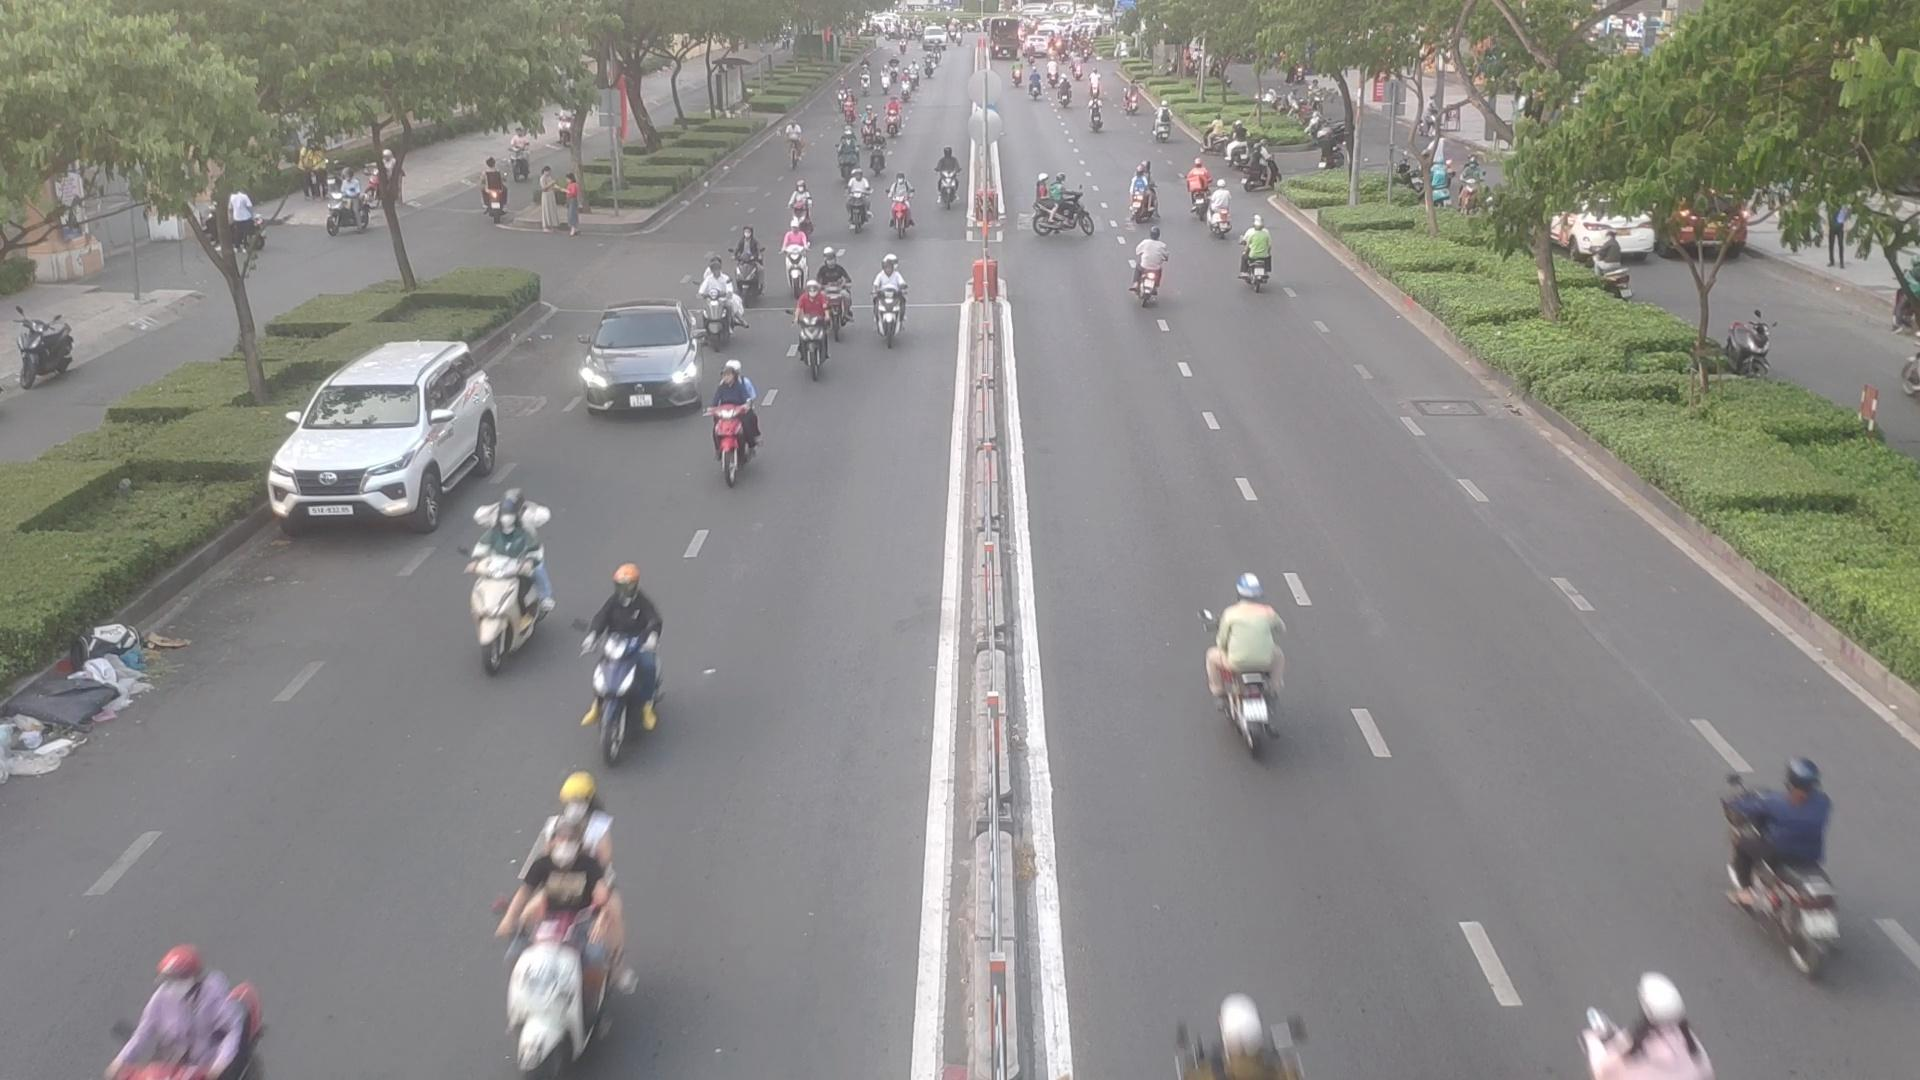car: (272, 343, 516, 531), (572, 305, 707, 415)
motorbike: (498, 819, 636, 1075), (1713, 746, 1844, 975), (100, 938, 266, 1075), (582, 562, 678, 752), (1197, 584, 1298, 752), (456, 496, 550, 671), (1578, 972, 1727, 1080), (698, 361, 762, 476), (1029, 173, 1098, 244), (864, 260, 913, 349), (785, 282, 829, 380), (695, 268, 748, 347), (1236, 219, 1283, 290), (1127, 236, 1174, 309), (727, 233, 767, 299), (823, 241, 849, 338), (1129, 160, 1163, 229), (782, 224, 818, 284), (932, 146, 963, 214), (884, 181, 915, 239), (844, 171, 873, 231), (789, 179, 822, 229), (1207, 179, 1234, 236), (1182, 157, 1207, 219), (833, 129, 858, 185), (869, 131, 887, 174)
